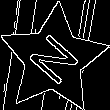N_SE: (22, 27, 85, 91)
